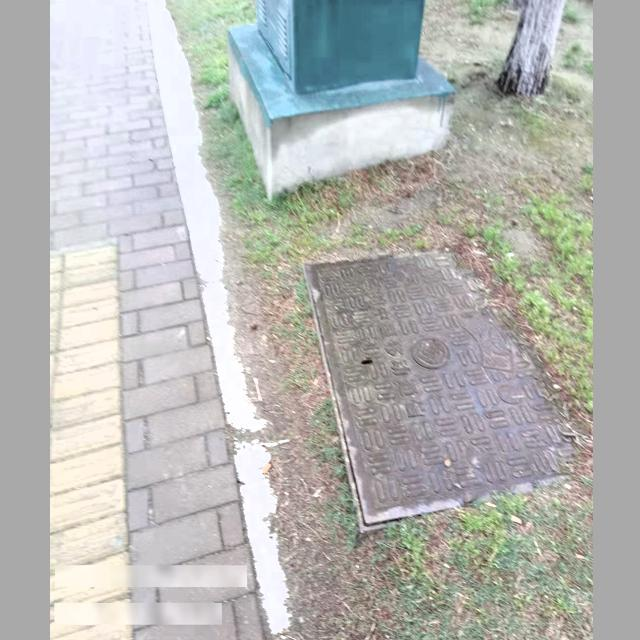good: (304, 251, 580, 529)
